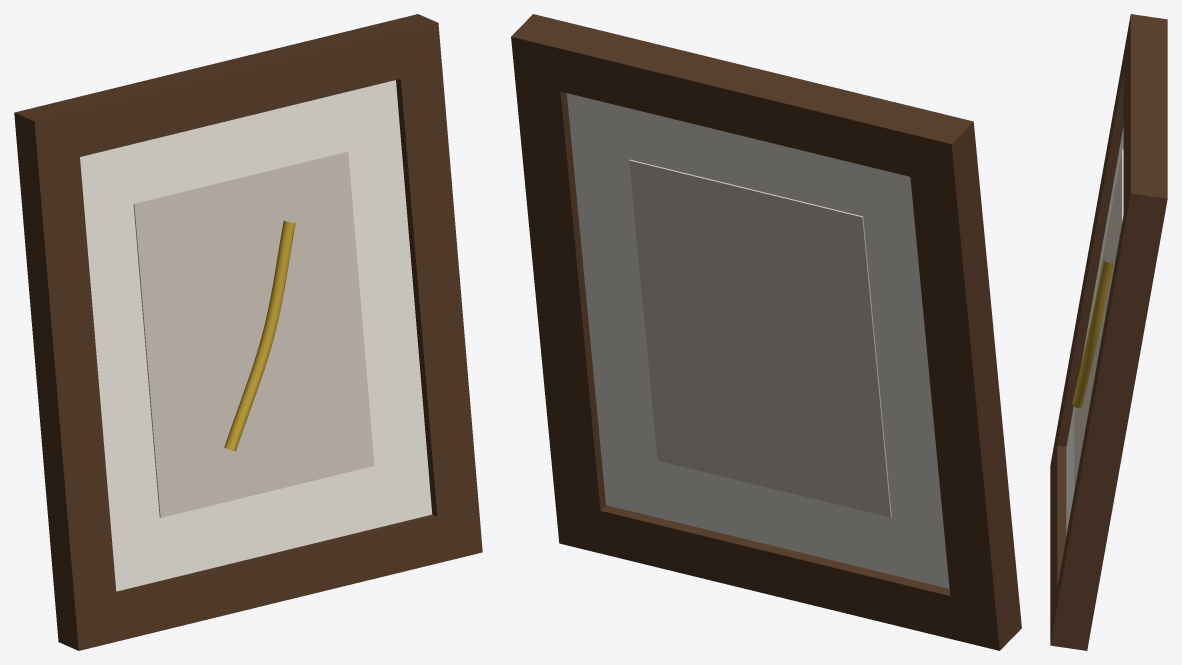
File: wooden_frame.glb
3 renders of one model, left to right at view 1: azimuth 30°, elevation 25°; view 2: azimuth 150°, elevation 25°; view 3: azimuth 270°, elevation 25°, orthographic. The views are drawn at different scales.
Size of the model in its own units: 1.36 by 1.62 by 0.3766.
